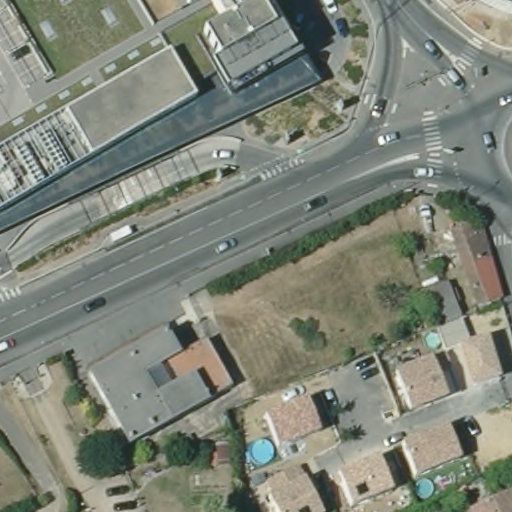pool: (250, 437, 276, 466), (415, 475, 435, 501), (423, 330, 445, 351)
